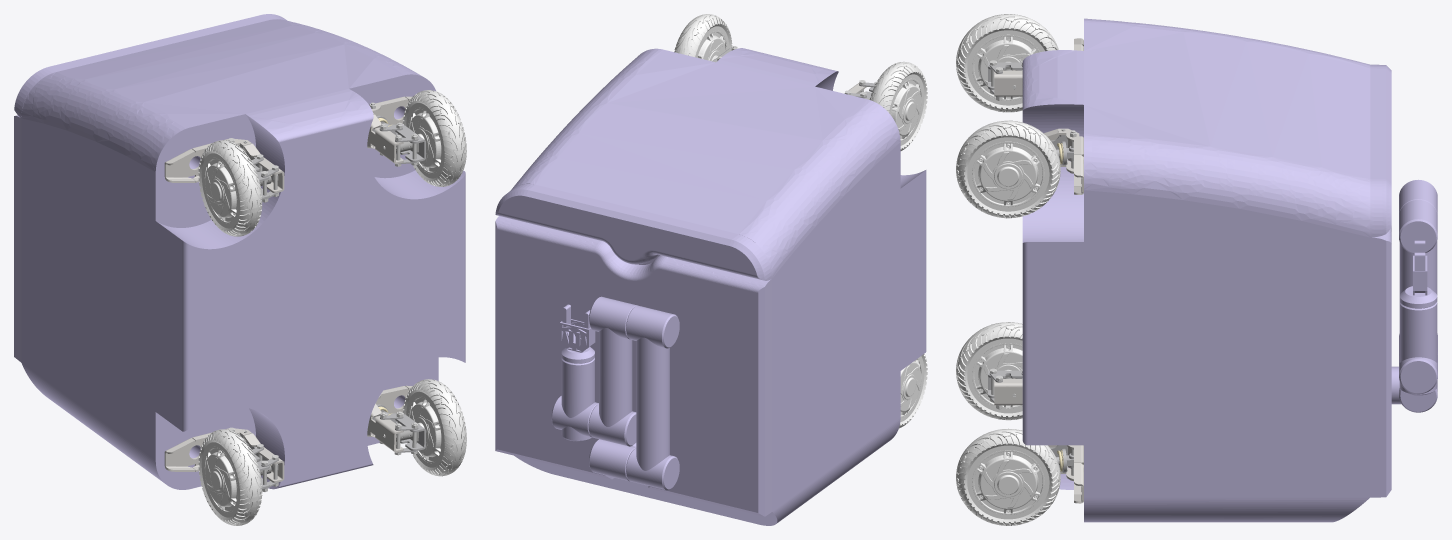
The picture shows the model from 3 angles, left to right: view 1: azimuth 30°, elevation 25°; view 2: azimuth 150°, elevation 25°; view 3: azimuth 270°, elevation 25°; orthographic projection. The views are drawn at different scales.
Visible parts, largest first — view 1: Node13, Node7, Node9, Node1, Node2, Node3, Node5, Node6, Node10, Node4, Node12; view 2: Node13, Node5, Node2, Node1, Node6, Node3, Node7, Node4; view 3: Node13, Node1, Node7, Node5, Node2, Node6, Node3, Node9, Node4, Node10, Node12.
Boxes of the visible parts, x1,y1,x2,y2 form: Node13: (14, 14, 465, 489); Node7: (199, 92, 466, 525); Node9: (164, 96, 412, 482); Node1: (202, 90, 466, 525); Node2: (199, 91, 464, 523); Node3: (198, 92, 464, 523); Node5: (200, 90, 466, 525); Node6: (198, 93, 465, 524); Node10: (252, 115, 426, 489); Node4: (200, 96, 463, 525); Node12: (228, 102, 417, 491); Node13: (495, 48, 926, 525); Node5: (674, 16, 927, 428); Node2: (676, 16, 927, 426); Node1: (676, 18, 922, 426); Node6: (688, 15, 927, 427); Node3: (678, 17, 926, 425); Node7: (675, 14, 927, 425); Node4: (675, 14, 923, 423); Node13: (1022, 18, 1437, 522); Node1: (957, 18, 1059, 525); Node7: (956, 14, 1060, 524); Node5: (958, 14, 1060, 525); Node2: (957, 15, 1058, 525); Node6: (956, 16, 1059, 525); Node3: (956, 17, 1058, 525); Node9: (994, 38, 1083, 503); Node4: (956, 14, 1058, 525); Node10: (988, 62, 1073, 472); Node12: (990, 60, 1076, 480).
Bounding box in the file's own units: 650 × 831 × 901.
